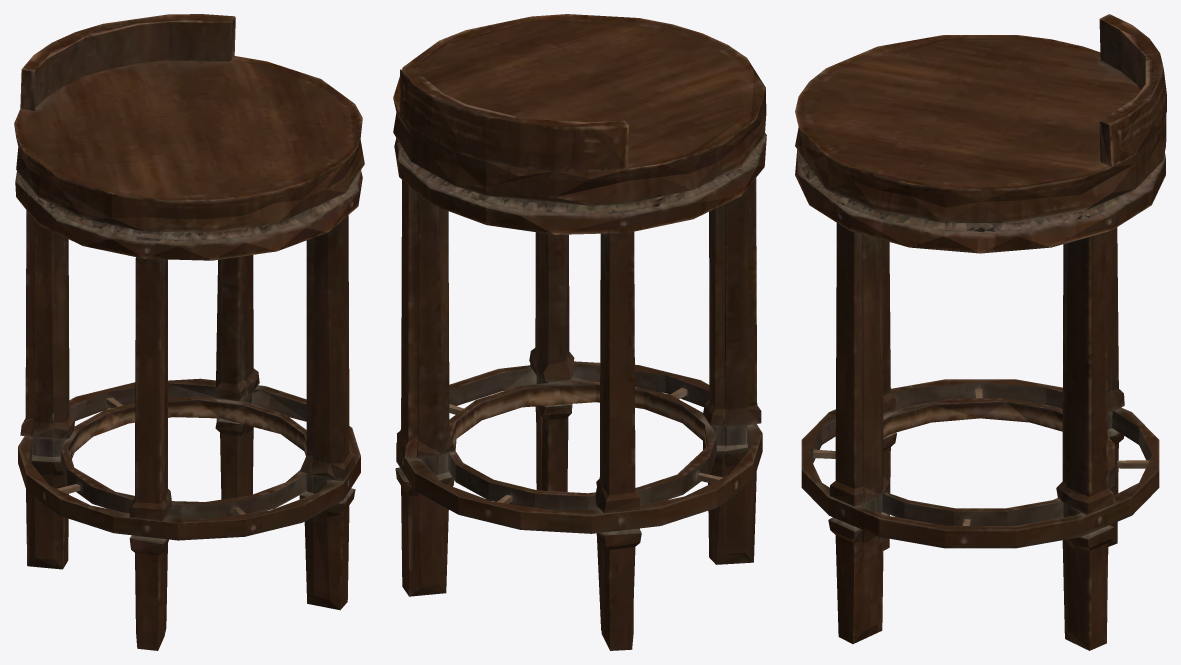
The model's file is bar_stool.glb.
3 renders of one model, left to right at view 1: azimuth 30°, elevation 25°; view 2: azimuth 150°, elevation 25°; view 3: azimuth 270°, elevation 25°, orthographic. The views are drawn at different scales.
Parts seen in each view (by area): view 1: bar_chair_round_01; view 2: bar_chair_round_01; view 3: bar_chair_round_01.
Boxes of the visible parts, box(x1,y1,x2,y2) form: bar_chair_round_01: box(14, 14, 364, 650); bar_chair_round_01: box(393, 14, 766, 650); bar_chair_round_01: box(795, 14, 1166, 650).
Size of the model in its own units: 0.4807 by 0.7505 by 0.482.
Materials: 1 (1 with a texture image).
